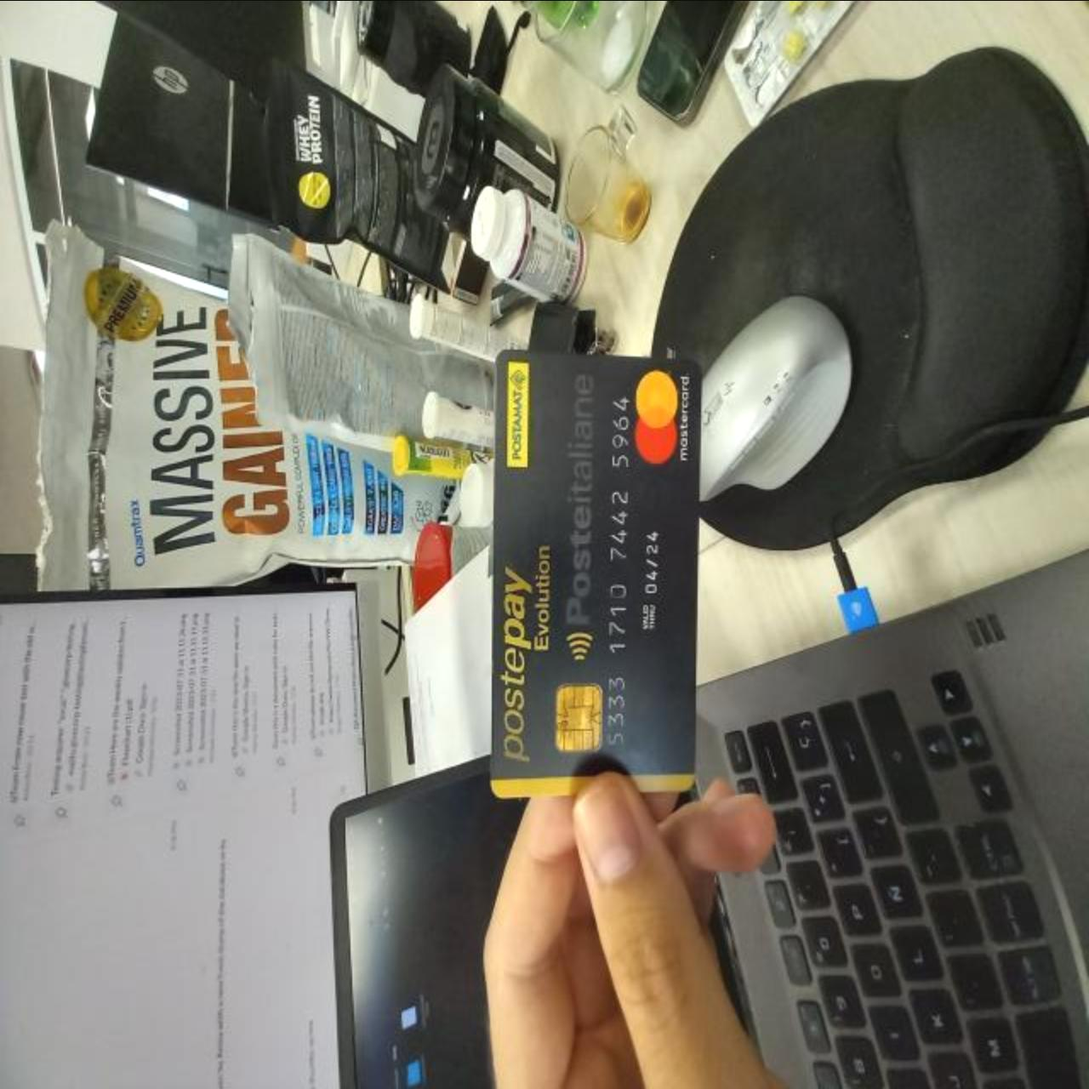credit_card: (492, 349, 702, 796)
